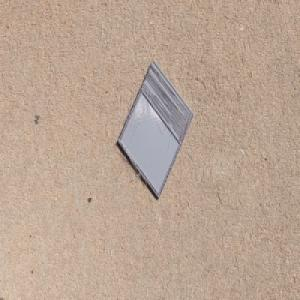PlasticPart: (117, 59, 194, 201)
